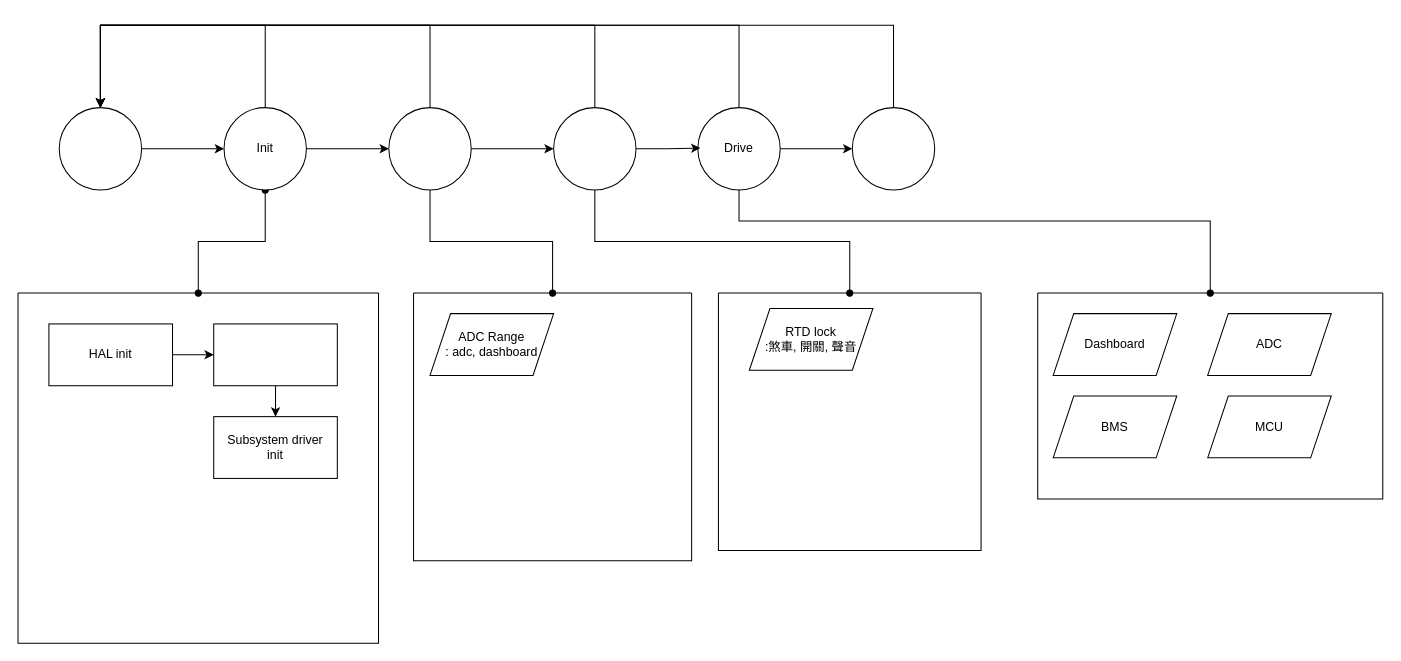
The diagram is 1401 pixels wide and 661 high, and some of its shapes have lost their labels. Each missing label, with the centre of its shape:
"CH init" goes at point (275, 354).
"fail" goes at point (893, 148).
"Off" goes at point (100, 148).
"Ready" goes at point (594, 148).
"test" goes at point (429, 148).
